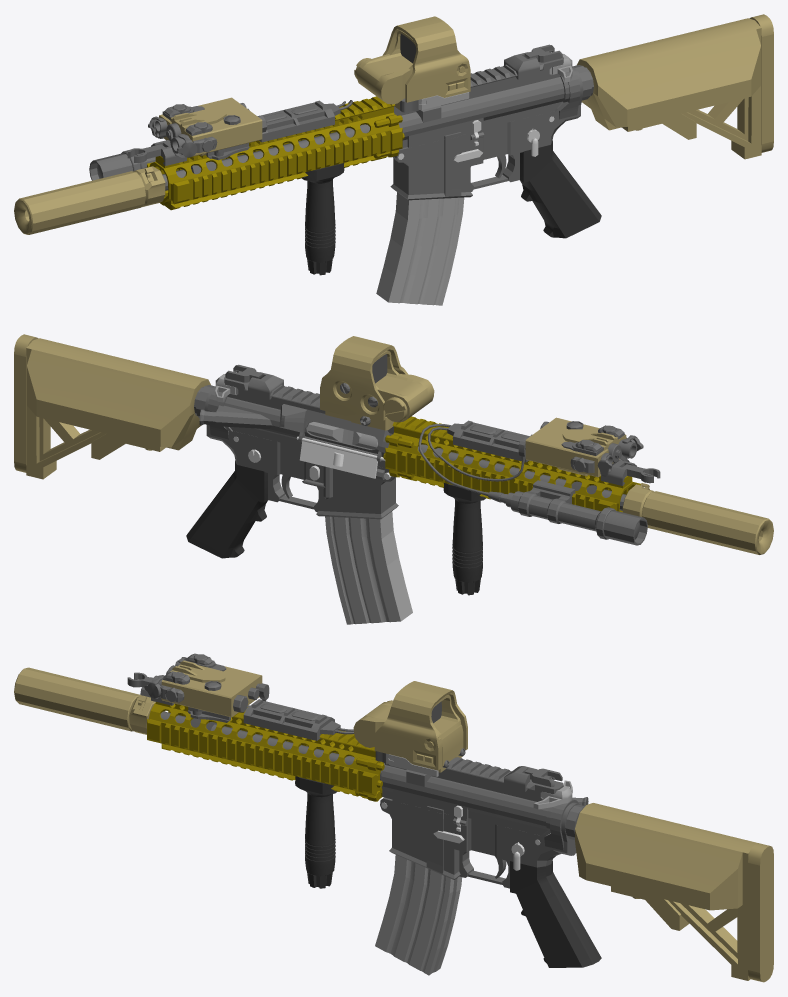
3 views of the same model, one above another, from view 1: azimuth 30°, elevation 25°; view 2: azimuth 150°, elevation 25°; view 3: azimuth 330°, elevation 25° (orthographic).
Parts seen in each view (by area): view 1: stock1, handguard, lower, upper, magazine, suppressor1, grip, roof, vert_grip, DBAL_A2_laserModule, mainbody, switch_module (+6 smaller); view 2: stock1, handguard, magazine, lower, upper, suppressor1, flashlight, grip, roof, vert_grip, mainbody, DBAL_A2_laserModule (+9 smaller); view 3: stock1, handguard, lower, upper, magazine, grip, roof, suppressor1, stock_pad, vert_grip, DBAL_A2_laserModule, switch_module (+5 smaller).
Part boxes in pixels (x1,y1,x2,y2): stock1: (577, 18, 761, 159); handguard: (147, 96, 404, 210); lower: (390, 66, 583, 200); upper: (392, 57, 569, 157); magazine: (376, 192, 464, 305); suppressor1: (14, 171, 145, 234); grip: (520, 140, 601, 238); roof: (382, 16, 470, 102); vert_grip: (302, 163, 344, 275); DBAL_A2_laserModule: (159, 97, 262, 156); mainbody: (354, 30, 415, 109); switch_module: (259, 100, 340, 142); stock1: (26, 338, 210, 479); handguard: (383, 416, 640, 512); magazine: (325, 511, 412, 624); lower: (204, 386, 398, 519); upper: (199, 377, 393, 467); suppressor1: (642, 491, 773, 554); flashlight: (418, 424, 647, 545); grip: (186, 460, 267, 558); roof: (320, 336, 408, 420); vert_grip: (443, 483, 485, 595); mainbody: (325, 350, 434, 430); DBAL_A2_laserModule: (525, 417, 626, 477); stock1: (575, 803, 757, 980); handguard: (147, 702, 384, 801); lower: (380, 797, 580, 888); upper: (380, 757, 588, 837); magazine: (375, 855, 462, 975); grip: (510, 861, 601, 967); roof: (374, 681, 467, 770); suppressor1: (14, 667, 141, 731); stock_pad: (748, 843, 773, 982); vert_grip: (295, 776, 337, 888); DBAL_A2_laserModule: (161, 660, 262, 717); switch_module: (243, 699, 340, 740).
Bounding box in the file's own units: 8.9 × 3.17 × 1.12.
